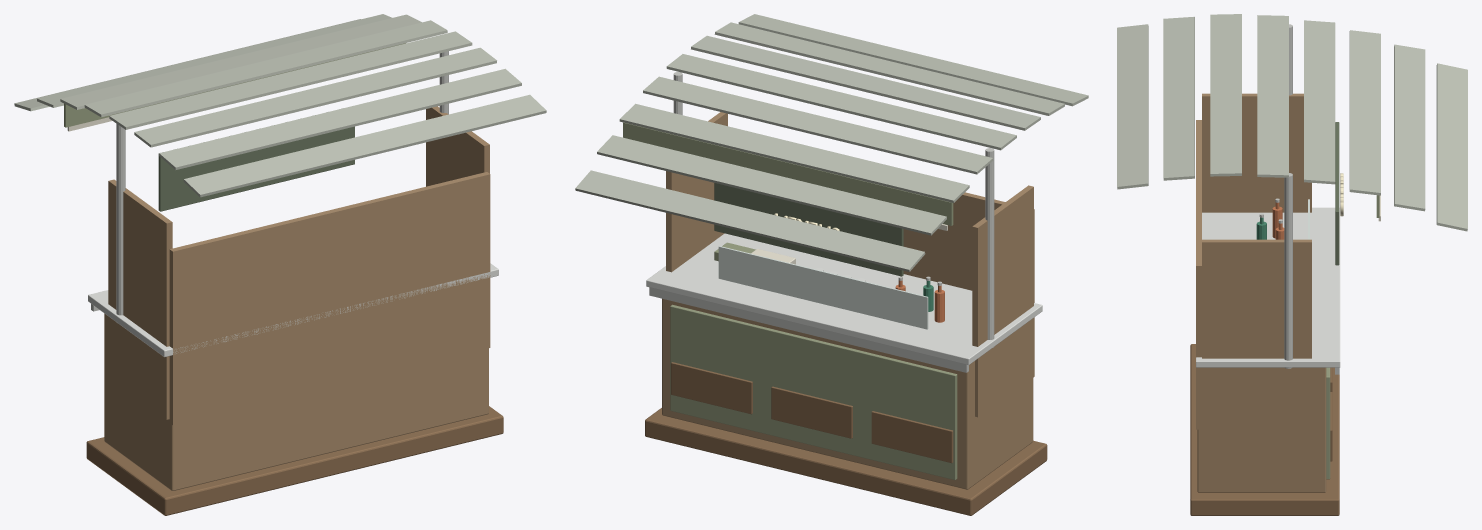
File: shekem.glb
3 renders of one model, left to right at view 1: azimuth 30°, elevation 25°; view 2: azimuth 150°, elevation 25°; view 3: azimuth 270°, elevation 25°, orthographic. The views are drawn at different scales.
Parts seen in each view (by area): view 1: back, body, side_l, plinth, roof0, roof1, roof2, roof3, roof4, roof5, signboard, side_r (+5 smaller); view 2: front_panel, countertop, plinth, side_l, body, roof7, roof6, roof5, guard, roof4, roof3, roof2 (+11 smaller); view 3: side_r, body, countertop, side_l, plinth, roof3, roof0, roof2, roof1, roof5, roof6, roof7 (+5 smaller).
Boxes of the visible parts, <box> form: back: <box>169,172,490,425</box>; body: <box>104,313,488,490</box>; side_l: <box>108,179,172,419</box>; plinth: <box>86,406,503,515</box>; roof0: <box>183,94,546,197</box>; roof1: <box>159,68,521,169</box>; roof2: <box>134,47,496,147</box>; roof3: <box>109,31,472,129</box>; roof4: <box>84,20,447,117</box>; roof5: <box>60,14,421,109</box>; signboard: <box>158,126,354,211</box>; side_r: <box>426,106,489,186</box>; front_panel: <box>670,304,957,480</box>; countertop: <box>646,233,1042,365</box>; plinth: <box>645,408,1047,515</box>; side_l: <box>972,185,1033,417</box>; body: <box>662,298,1033,489</box>; roof7: <box>575,170,925,271</box>; roof6: <box>597,135,946,235</box>; roof5: <box>619,103,969,202</box>; guard: <box>718,246,928,329</box>; roof4: <box>643,76,993,174</box>; roof3: <box>666,54,1016,150</box>; roof2: <box>691,35,1040,130</box>; side_r: <box>1202,239,1311,427</box>; body: <box>1197,367,1326,492</box>; countertop: <box>1196,207,1340,367</box>; side_l: <box>1202,93,1311,212</box>; plinth: <box>1190,344,1339,515</box>; roof3: <box>1257,15,1288,177</box>; roof0: <box>1117,24,1148,189</box>; roof2: <box>1210,14,1241,176</box>; roof1: <box>1163,16,1194,180</box>; roof5: <box>1349,30,1380,195</box>; roof6: <box>1394,44,1425,211</box>; roof7: <box>1436,63,1467,231</box>.
Bounding box in the file's own units: 2.4 × 2.42 × 2.23.
